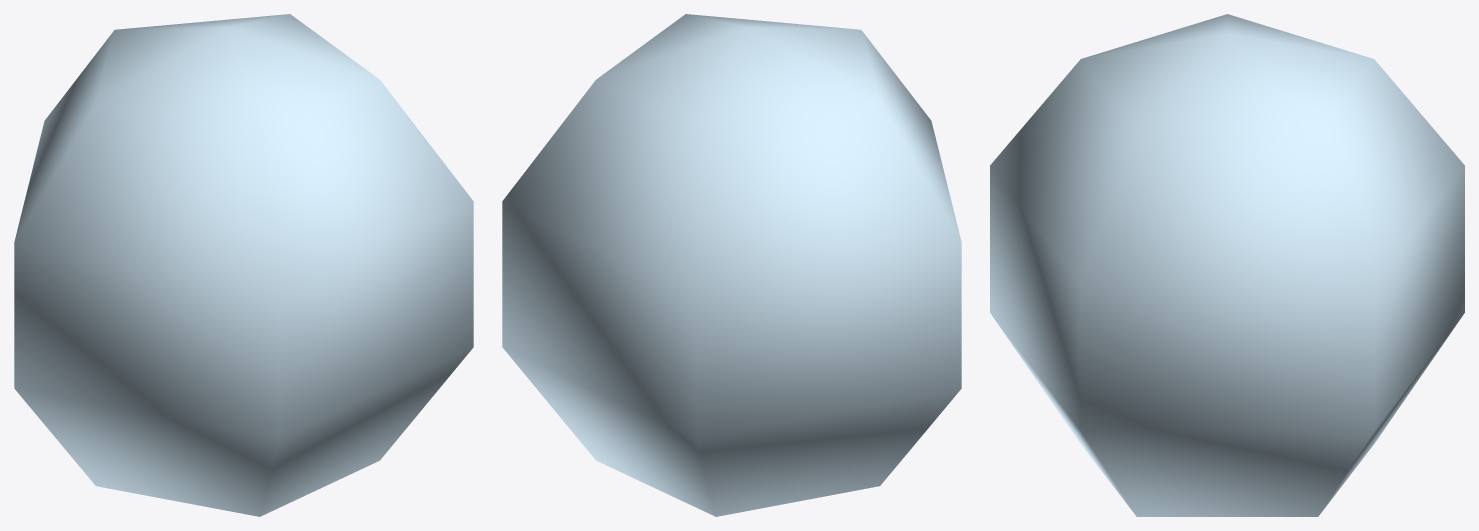
The model's file is snowbank_small.glb.
3 views of the same model, side by side, from view 1: azimuth 30°, elevation 25°; view 2: azimuth 150°, elevation 25°; view 3: azimuth 270°, elevation 25° (orthographic).
Bounding box in the file's own units: 0.8258 × 0.96 × 0.8683.
